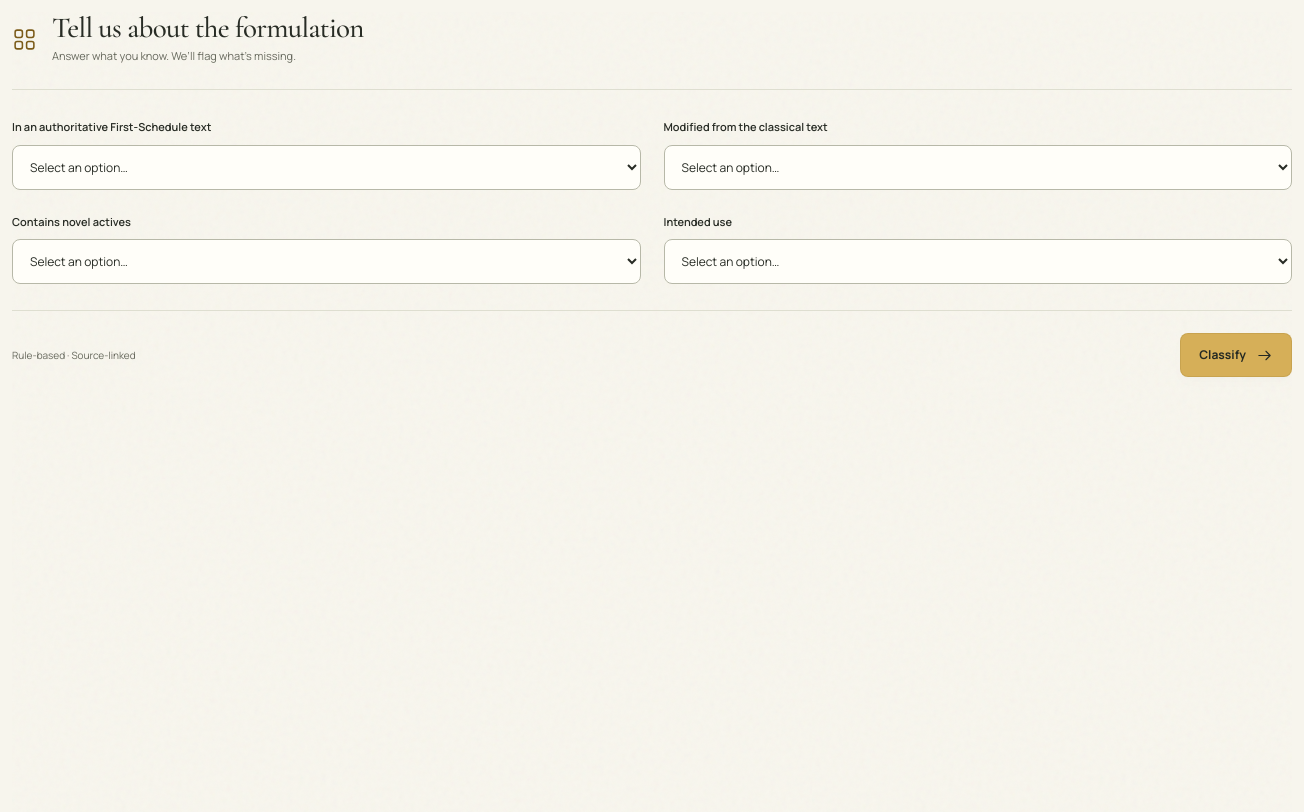
wizards › Classification wizard shows a sourced result
The image size is (1304, 812).
Click the button with test id "classify-run": click(1236, 355) [1180,333,1292,377]
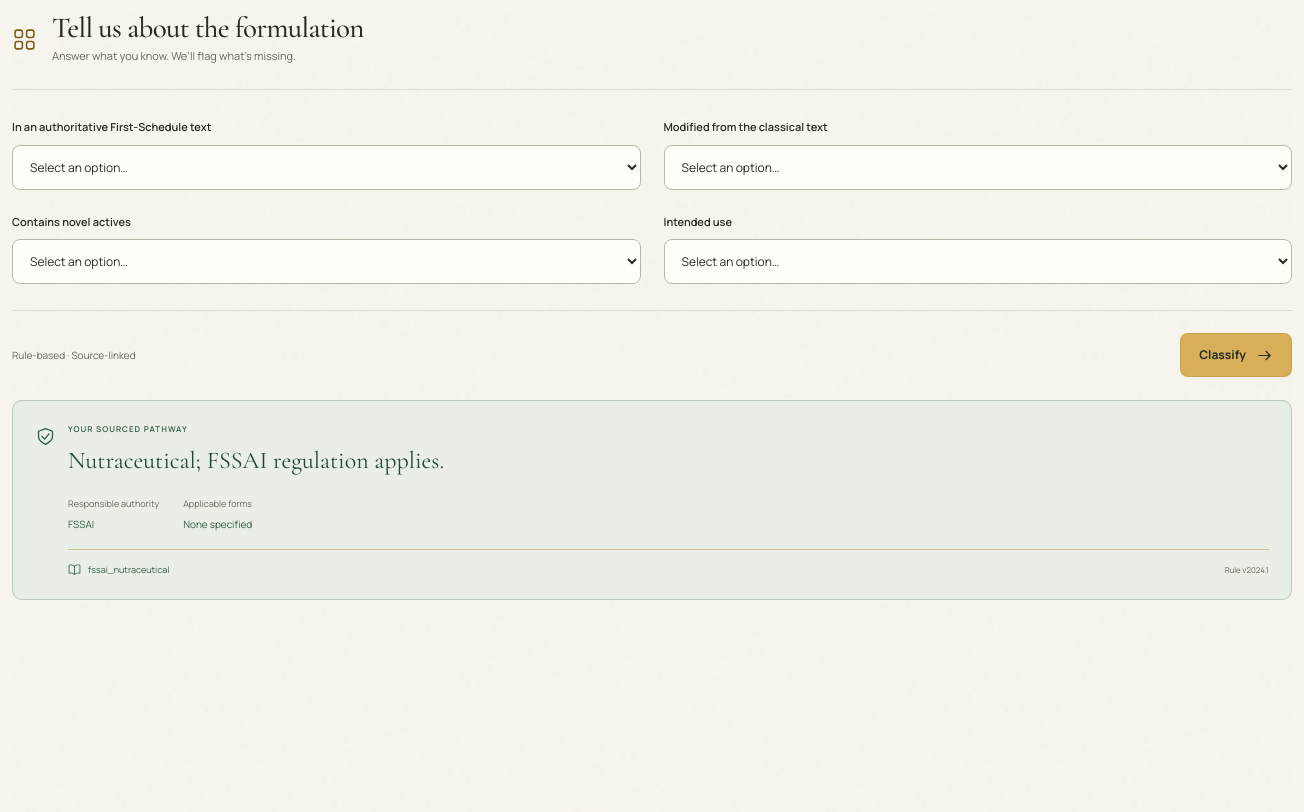
Check: the message with test id "obligation" shows "Nutraceutical", box [68,446,444,475]
